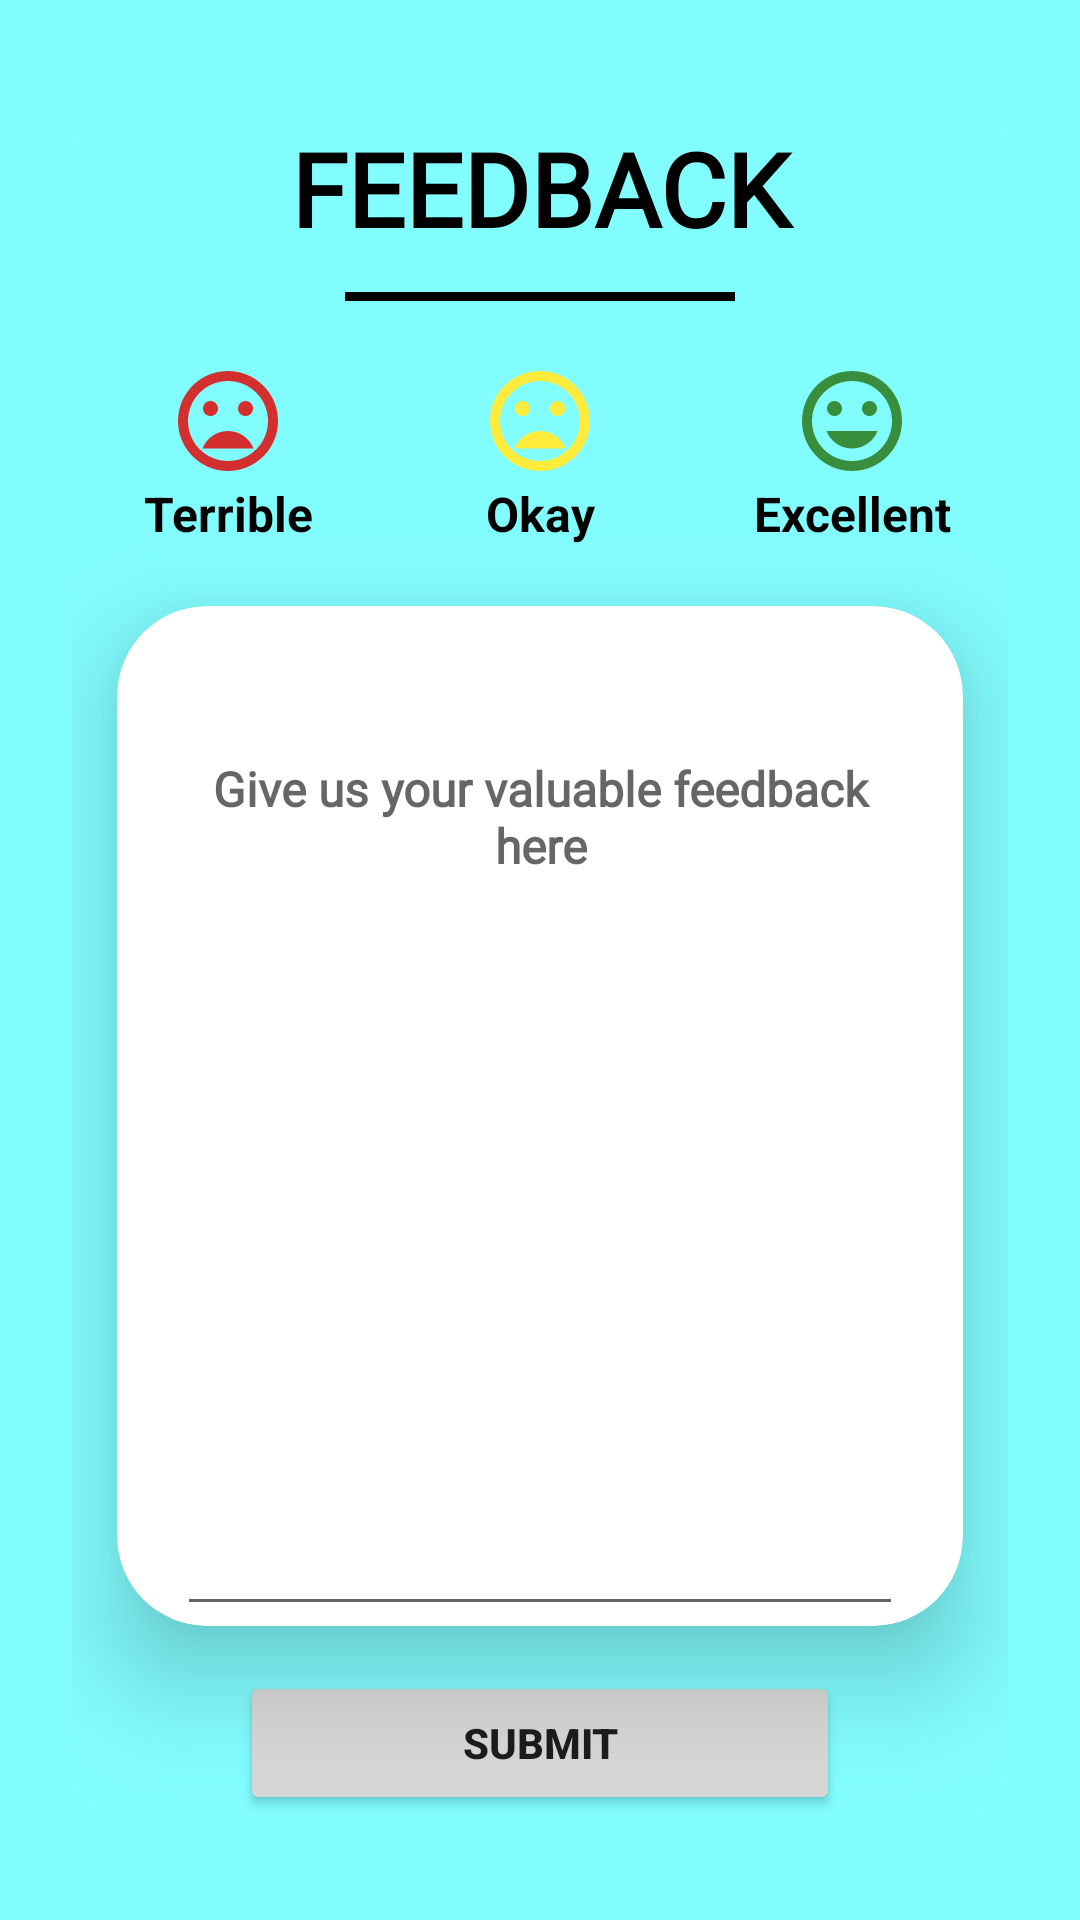

Where icons sit on this 1080x1920 app screen, as (x1, y1, x2, y2):
mood bad: (178, 371, 278, 471), (490, 371, 590, 471)
mood good: (802, 371, 902, 471)
